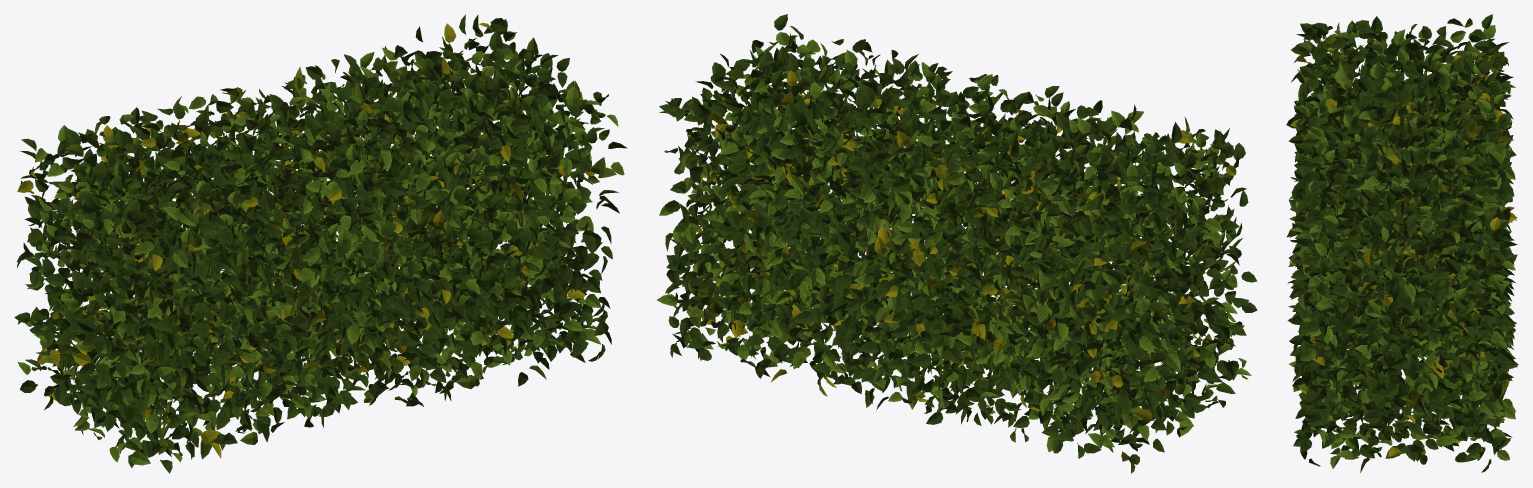
The model's file is BUSH SQUARE.fbx.
3 views of the same model, side by side, from view 1: azimuth 30°, elevation 25°; view 2: azimuth 150°, elevation 25°; view 3: azimuth 270°, elevation 25° (orthographic). The views are drawn at different scales.
Parts seen in each view (by area): view 1: BUSH SQUARE; view 2: BUSH SQUARE; view 3: BUSH SQUARE.
Boxes of the visible parts, x1,y1,x2,y2 form: BUSH SQUARE: (14, 14, 627, 473); BUSH SQUARE: (657, 14, 1257, 473); BUSH SQUARE: (1286, 14, 1518, 472).
Bounding box in the file's own units: 192 × 102 × 83.71.
